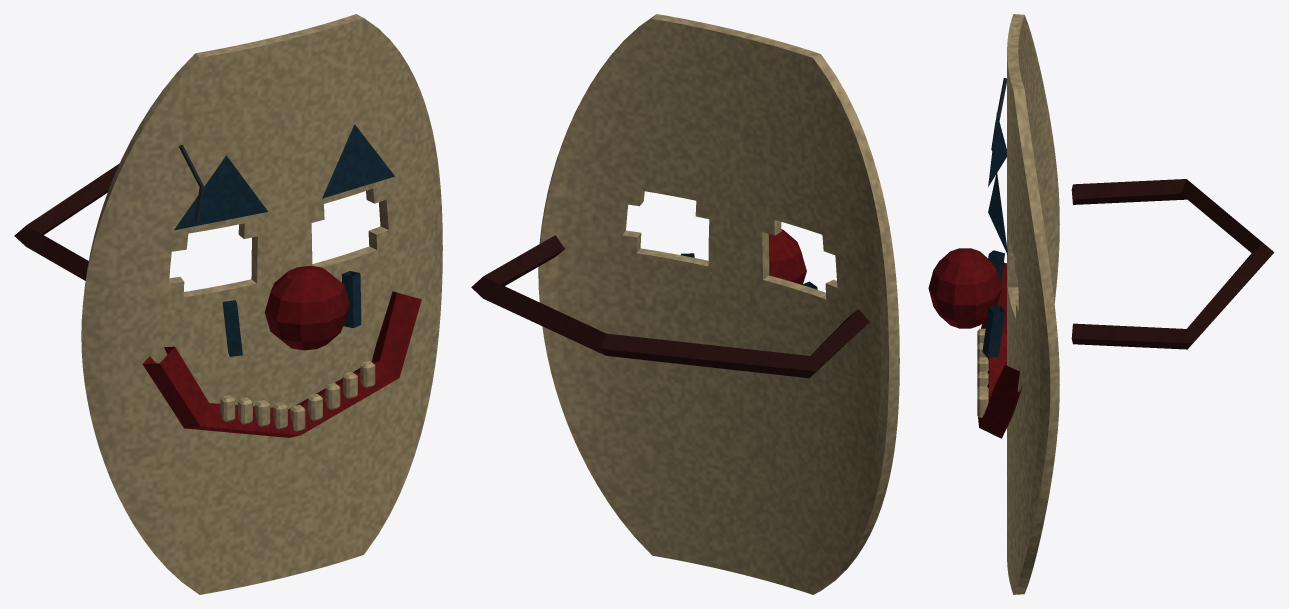
File: clown_mask.glb
3 views of the same model, side by side, from view 1: azimuth 30°, elevation 25°; view 2: azimuth 150°, elevation 25°; view 3: azimuth 270°, elevation 25° (orthographic). The views are drawn at different scales.
Visible parts, largest first — view 1: clown_mask; view 2: clown_mask; view 3: clown_mask.
Part boxes in pixels (box(x1,y1,x2,y2)): clown_mask: box(14, 14, 442, 594); clown_mask: box(471, 14, 899, 594); clown_mask: box(928, 14, 1274, 594).
Size of the model in its own units: 0.31 by 0.44 by 0.273.
Materials: 5 (4 with a texture image).
